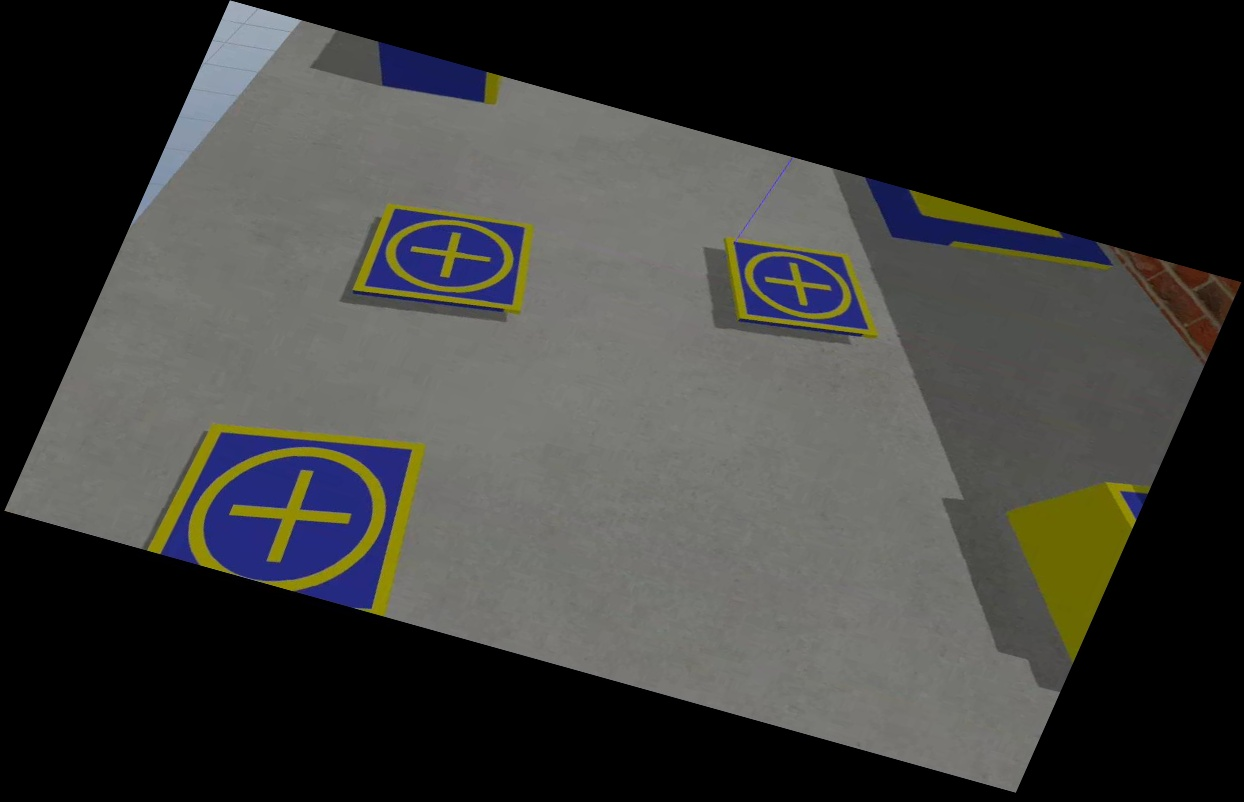large_base: (839, 176, 1119, 295)
small_base: (146, 383, 462, 617), (344, 183, 559, 338), (694, 224, 904, 356)
